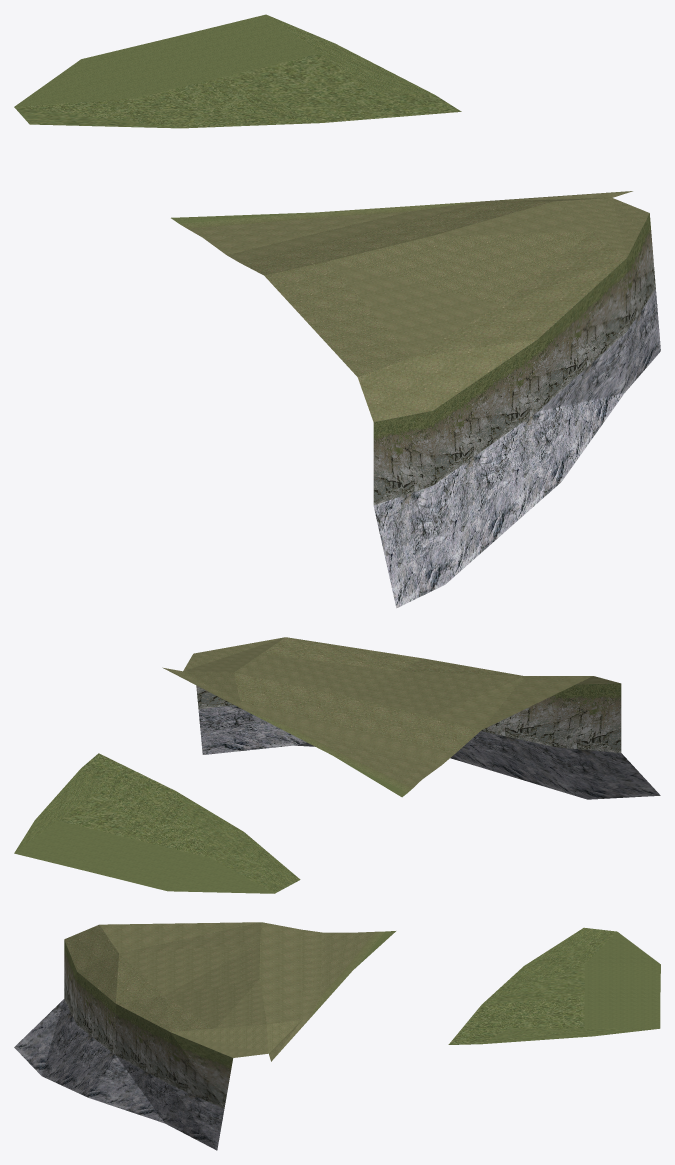
File: vegassedge23.obj
3 renders of one model, top to bottom at view 1: azimuth 30°, elevation 25°; view 2: azimuth 150°, elevation 25°; view 3: azimuth 270°, elevation 25°, orthographic. The views are drawn at different scales.
Visible parts, largest first — view 1: vegasSedge23; view 2: vegasSedge23; view 3: vegasSedge23.
Part boxes in pixels (x1=…): vegasSedge23: x1=14, y1=14, x2=660, y2=608; vegasSedge23: x1=14, y1=637, x2=660, y2=893; vegasSedge23: x1=14, y1=922, x2=660, y2=1150.
Size of the model in its own units: 90.8 by 42.08 by 171.
9 materials, 9 textured.
